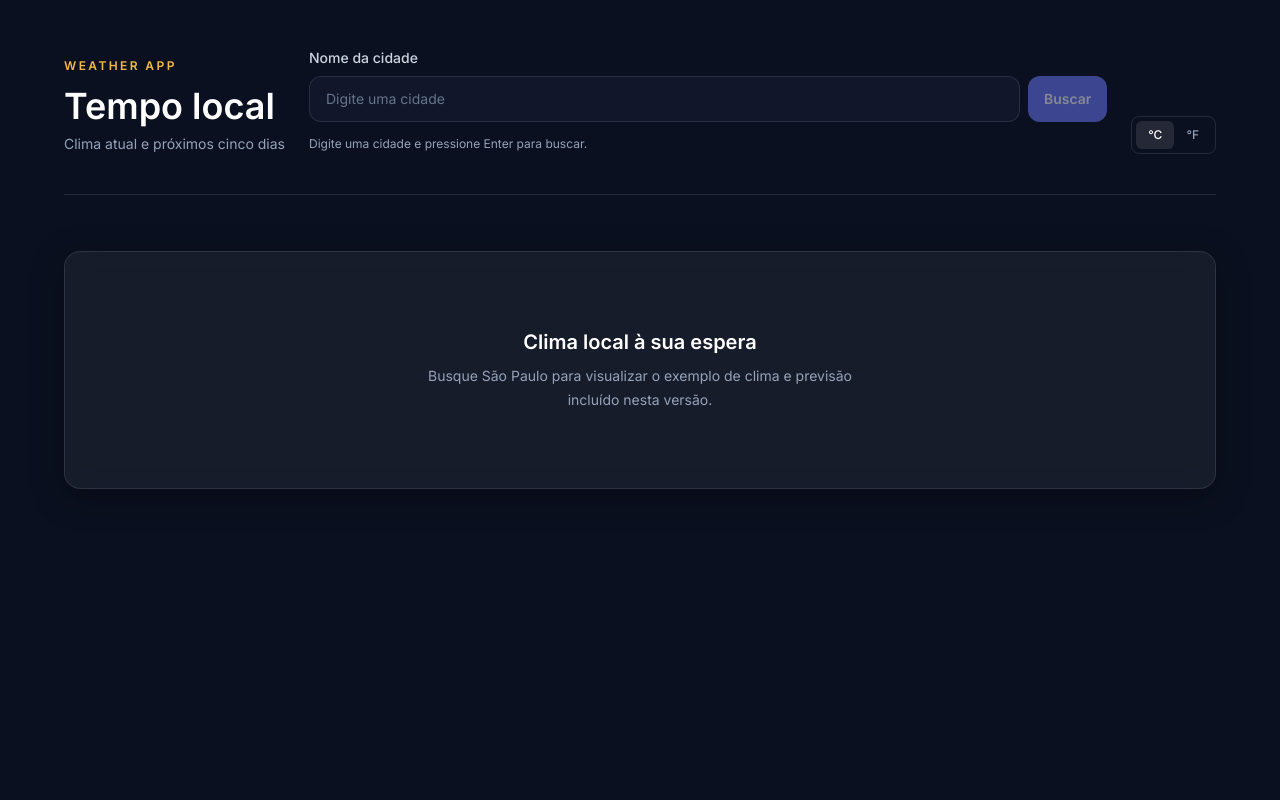
Test case: Weather App mock flow › loads the sample city and derives Fahrenheit during rendering
Type "  São Paulo  " into the search field labelled "Nome da cidade" at (664,99), box x1=309 y1=76 x2=1020 y2=122
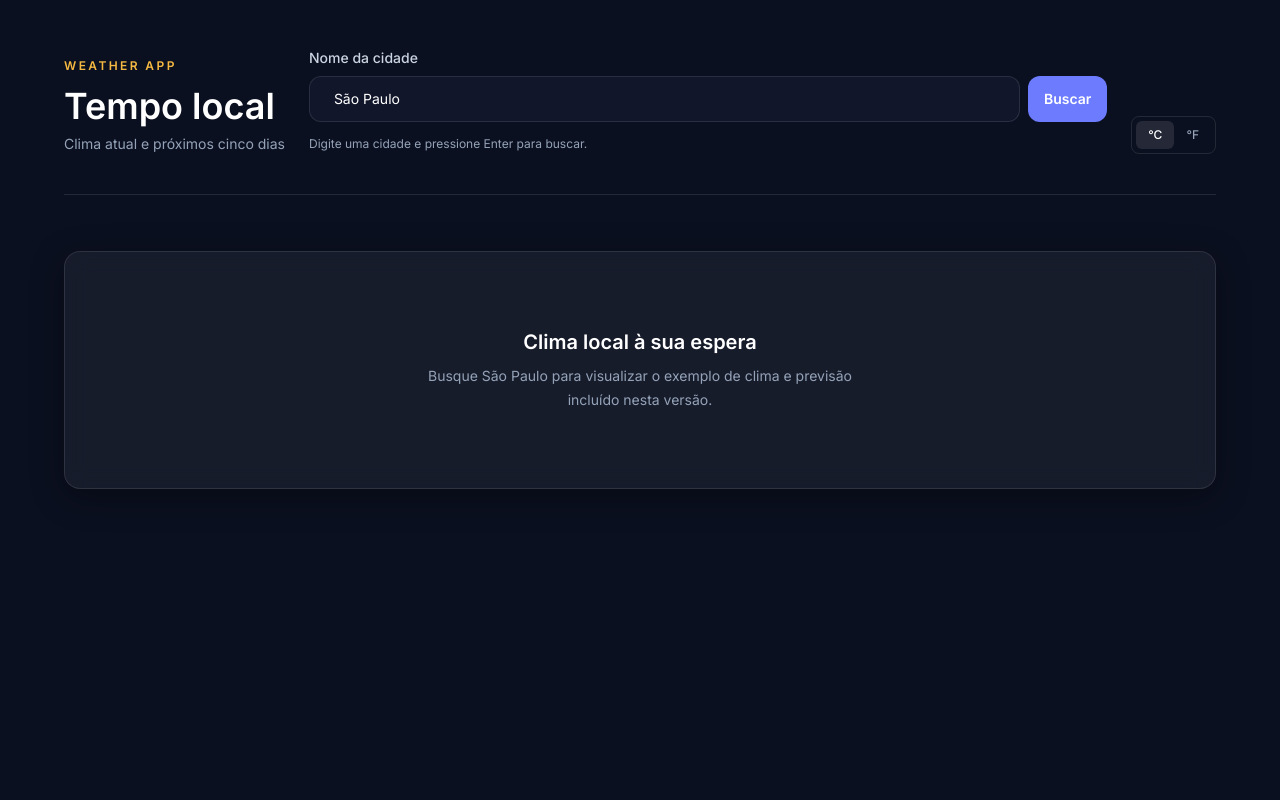
Click the button "Buscar" at (1068,99), box x1=1028 y1=76 x2=1107 y2=122
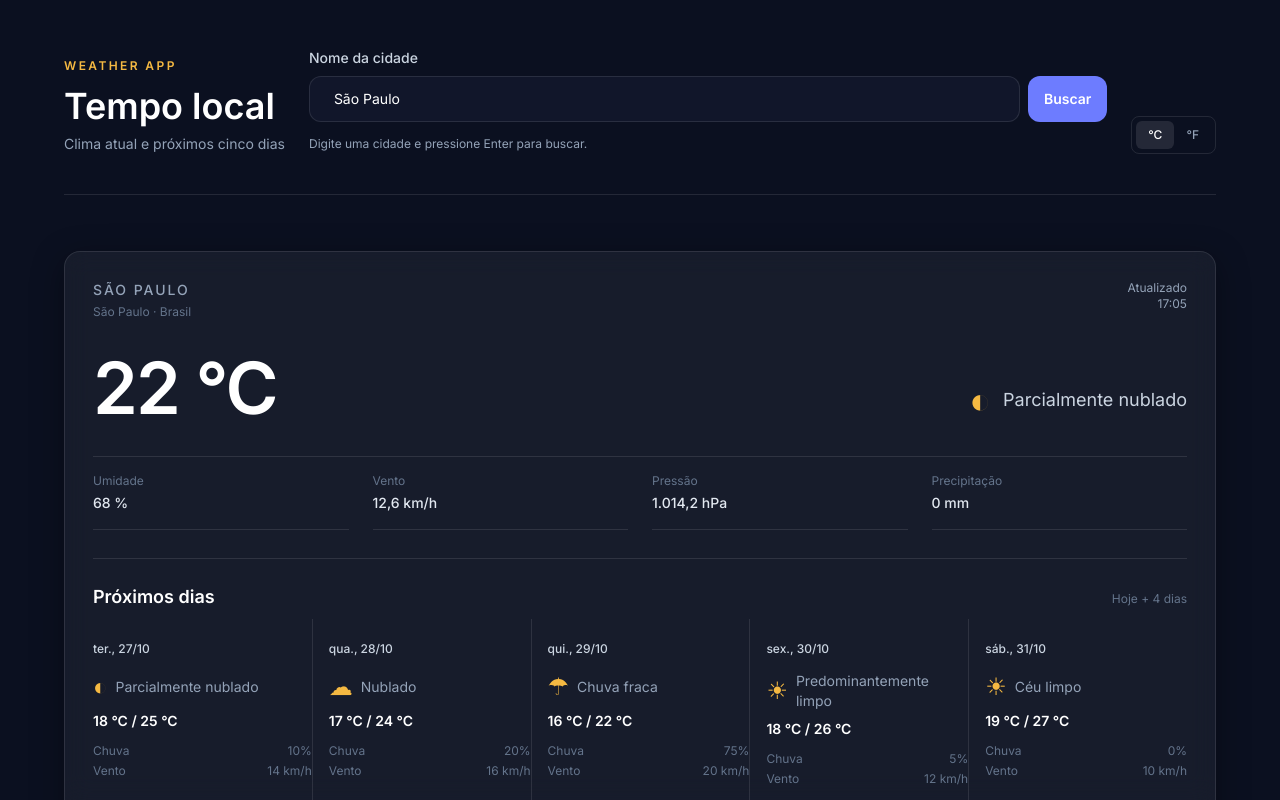
Now the heading "São Paulo" is shown, box x1=93 y1=280 x2=191 y2=300
Now the text "22 °C" is shown, box x1=93 y1=352 x2=277 y2=424
Click the button "°F" at (1193,135), box x1=1174 y1=121 x2=1211 y2=149
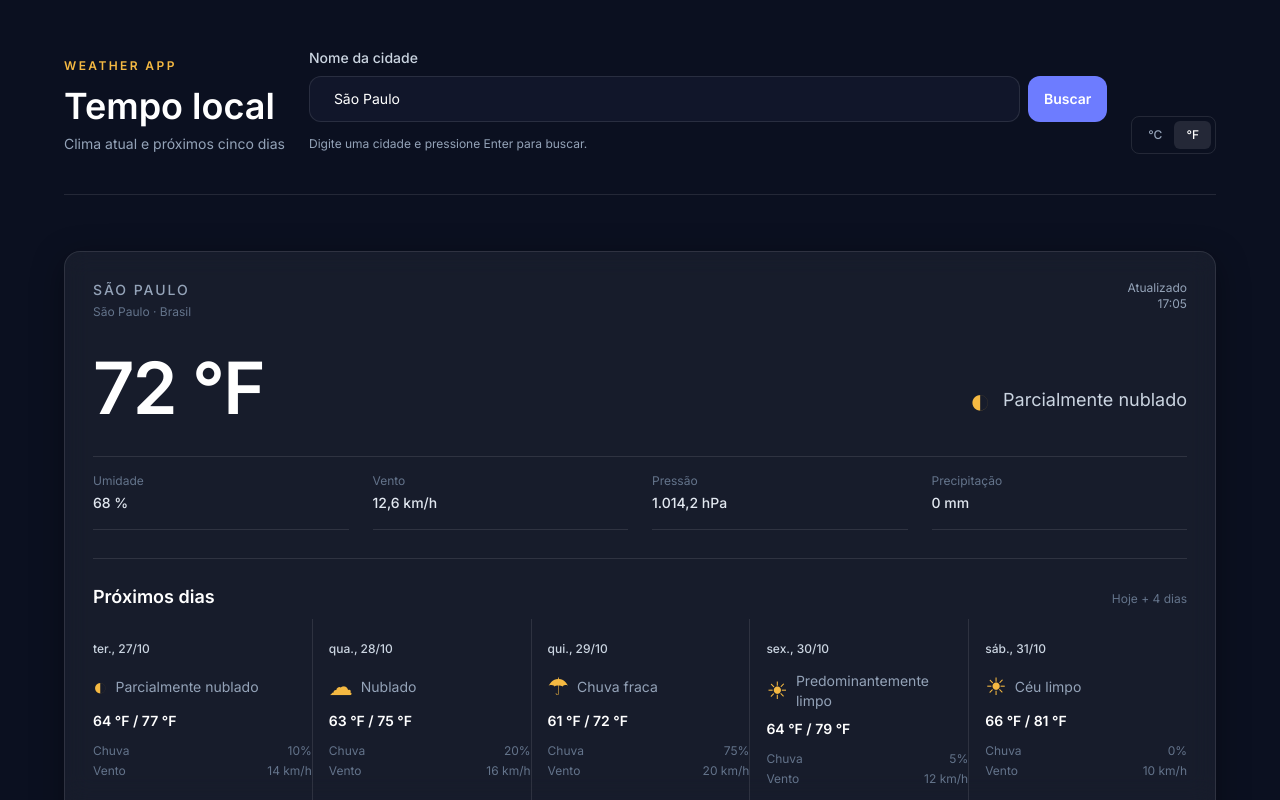
Now the text "72 °F" is shown, box x1=93 y1=352 x2=264 y2=424
